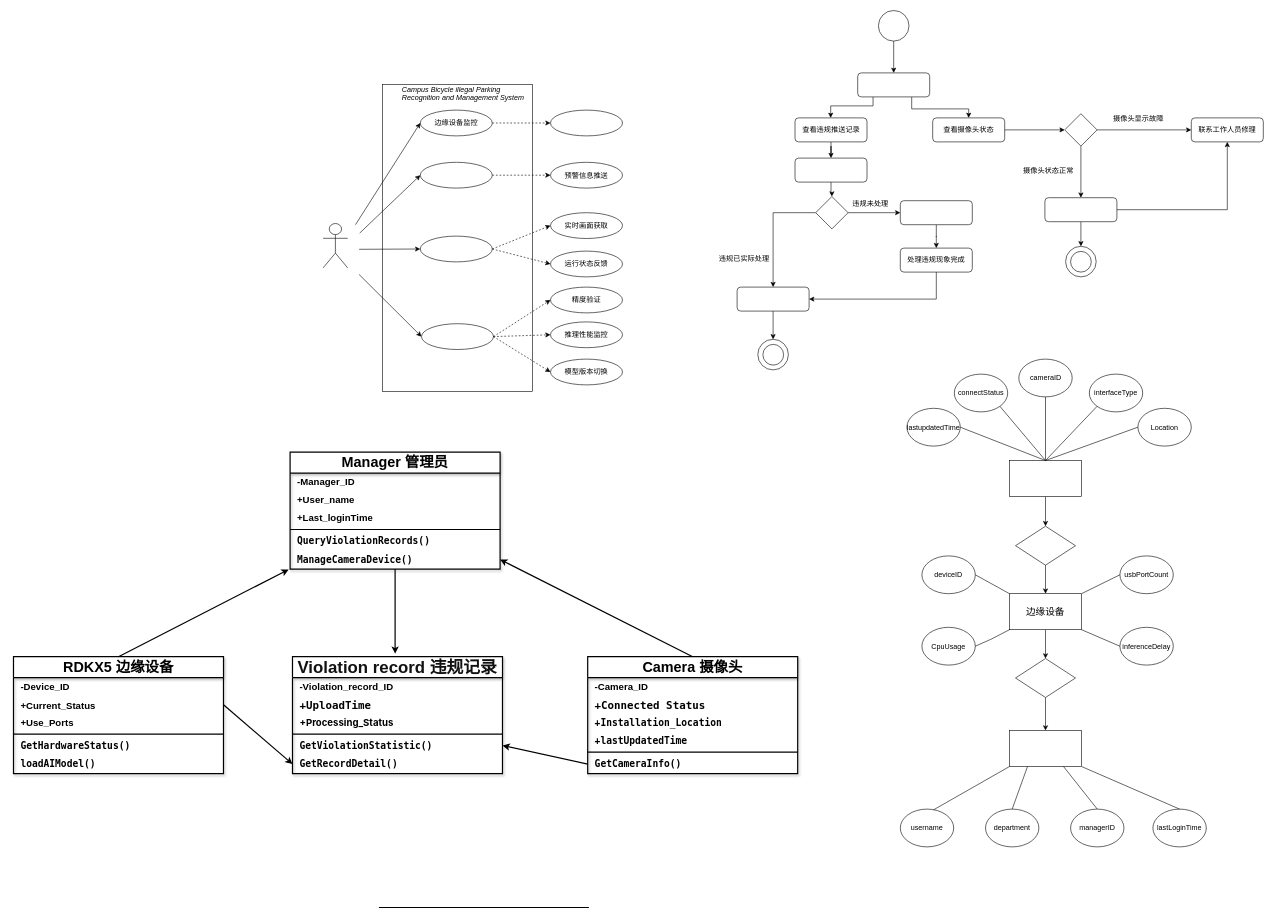
Some shapes in this 1274 by 921 pixel diagram are drawn without their labels. Each missing label, with the centre of its shape:
发送数据流: the point at 1045,545
处理后发送结果: the point at 1045,678
将违规记录标记为已处理: the point at 772,298
摄像头: the point at 1045,478
摄像头设备管理: the point at 456,249
模型运维管理: the point at 457,336
添加设备监控日志: the point at 1080,209
管理人员: the point at 1045,748
系统运维人员: the point at 335,245
联系工作人员处理: the point at 936,212
获取实时监控画面: the point at 830,170
资源占用监控: the point at 586,123
输入密码和管理员ID: the point at 893,84
违规预警管理: the point at 456,175
